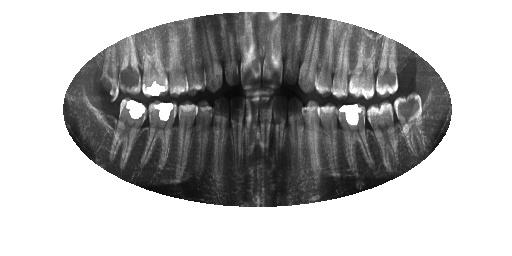i10decay: (230, 96, 245, 167)
i11decay: (214, 97, 231, 180)
i12healthy: (197, 100, 215, 178)
i13healthy: (174, 101, 200, 181)
i14healthy: (143, 100, 178, 180)
i15healthy: (110, 98, 151, 170)
i16loss: (88, 102, 119, 161)
i1decay: (393, 92, 430, 156)
i2healthy: (368, 102, 398, 177)
i3healthy: (337, 101, 374, 179)
i4healthy: (318, 102, 340, 180)
i5healthy: (303, 100, 322, 184)
i6chipped: (288, 97, 303, 166)
i7decay: (274, 96, 288, 167)
i8decay: (259, 96, 274, 167)
i9decay: (246, 96, 260, 160)
u10decay: (223, 14, 241, 85)
u11healthy: (203, 14, 223, 91)
u12healthy: (185, 17, 207, 92)
u13healthy: (165, 25, 189, 96)
u14healthy: (143, 31, 169, 99)
u15decay: (118, 33, 142, 95)
u16chipped: (100, 42, 119, 105)
u1loss: (397, 41, 421, 92)
u2decay: (374, 32, 399, 98)
u3healthy: (349, 27, 376, 101)
u4healthy: (330, 22, 350, 98)
u5healthy: (315, 13, 333, 96)
u6healthy: (298, 13, 318, 95)
u7decay: (283, 10, 299, 87)
u8decay: (262, 10, 283, 89)
u9decay: (241, 10, 261, 89)
